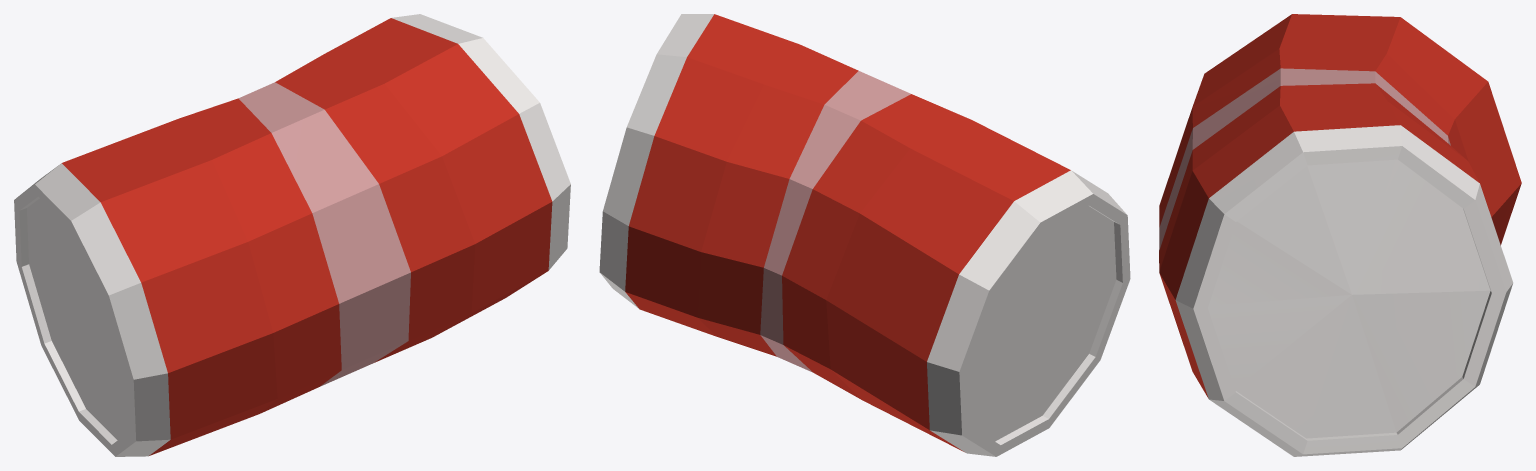
The model's file is lattina_3.fbx.
The picture shows the model from 3 angles, left to right: view 1: azimuth 30°, elevation 25°; view 2: azimuth 150°, elevation 25°; view 3: azimuth 270°, elevation 25°; orthographic projection. The views are drawn at different scales.
Parts seen in each view (by area): view 1: Cannette_02; view 2: Cannette_02; view 3: Cannette_02.
Part boxes in pixels (left/top/right/bottom): Cannette_02: left=14, top=14, right=570, bottom=456; Cannette_02: left=599, top=14, right=1130, bottom=456; Cannette_02: left=1159, top=14, right=1521, bottom=456.
Bounding box in the file's own units: 317 × 220 × 191.
